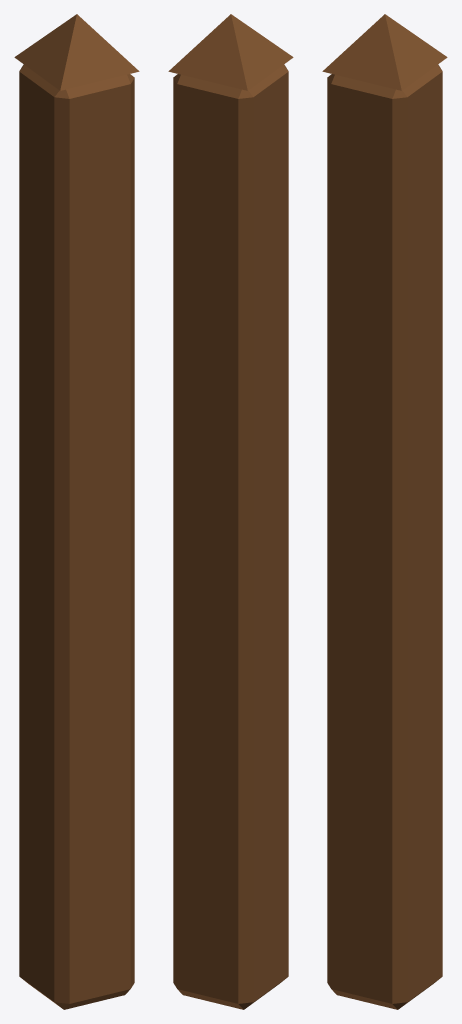
File: SM_Fence_Post.glb
3 views of the same model, side by side, from view 1: azimuth 30°, elevation 25°; view 2: azimuth 150°, elevation 25°; view 3: azimuth 330°, elevation 25° (orthographic).
Visible parts, largest first — view 1: SM_Fence_Post; view 2: SM_Fence_Post; view 3: SM_Fence_Post.
Part boxes in pixels (bbox=[...]): SM_Fence_Post: bbox=[14, 14, 139, 1009]; SM_Fence_Post: bbox=[168, 14, 293, 1009]; SM_Fence_Post: bbox=[322, 14, 447, 1009].
Size of the model in its own units: 0.1 by 1.16 by 0.1.
Materials: 1 (1 with a texture image).
